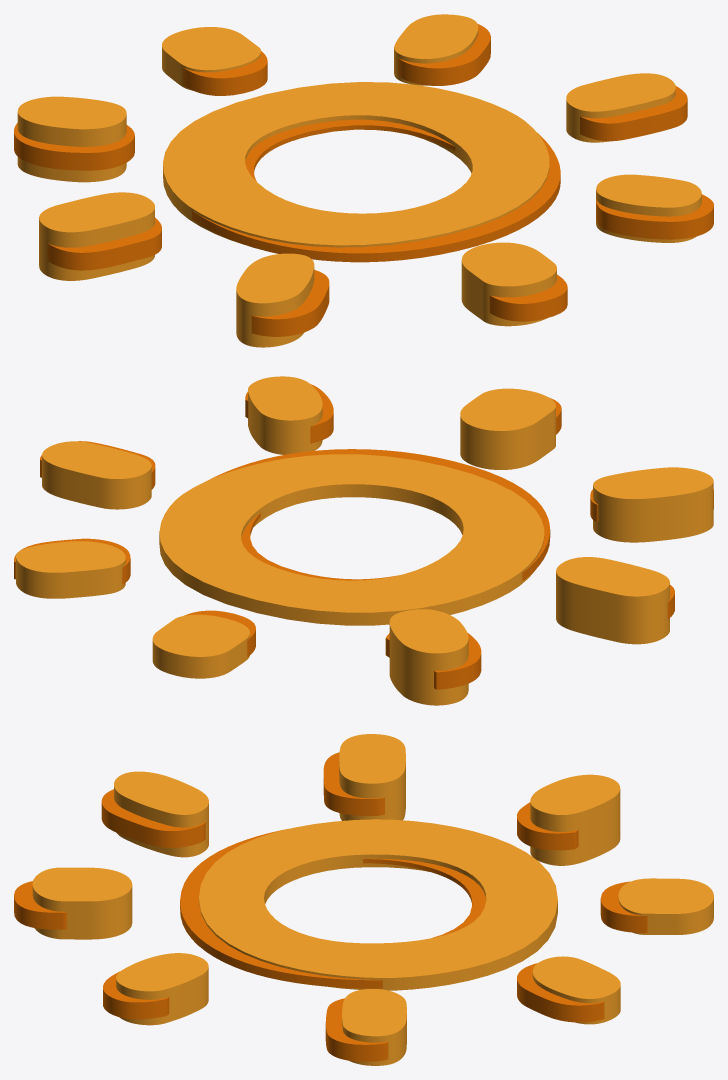
The model's file is emoji_u1f505.glb.
3 renders of one model, top to bottom at view 1: azimuth 30°, elevation 25°; view 2: azimuth 150°, elevation 25°; view 3: azimuth 270°, elevation 25°, orthographic. The views are drawn at different scales.
Visible parts, largest first — view 1: emoji_u1f505; view 2: emoji_u1f505; view 3: emoji_u1f505.
Boxes of the visible parts, x1,y1,x2,y2 form: emoji_u1f505: (14,14,713,347); emoji_u1f505: (14,376,713,705); emoji_u1f505: (14,734,713,1065).
Size of the model in its own units: 0.03 by 0.0024 by 0.03.
